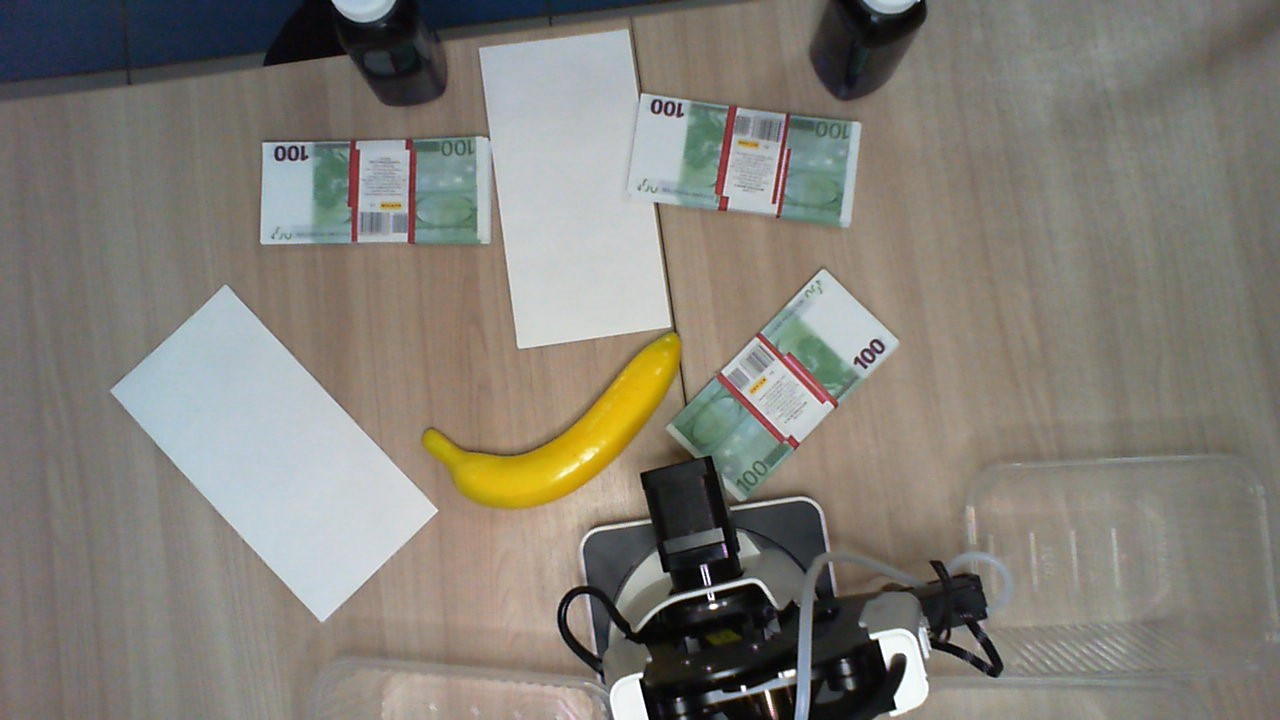banana: (420, 328, 683, 510)
bottle: (833, 1, 927, 37), (331, 1, 406, 40)
convert: (108, 285, 440, 622), (478, 28, 673, 348)
money: (667, 268, 898, 502), (624, 93, 865, 232), (259, 135, 493, 246)
